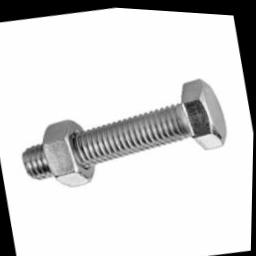Non-corroded Nut: (43, 117, 95, 186)
Non-corroded-Bolts: (68, 76, 227, 168), (23, 143, 54, 179)
